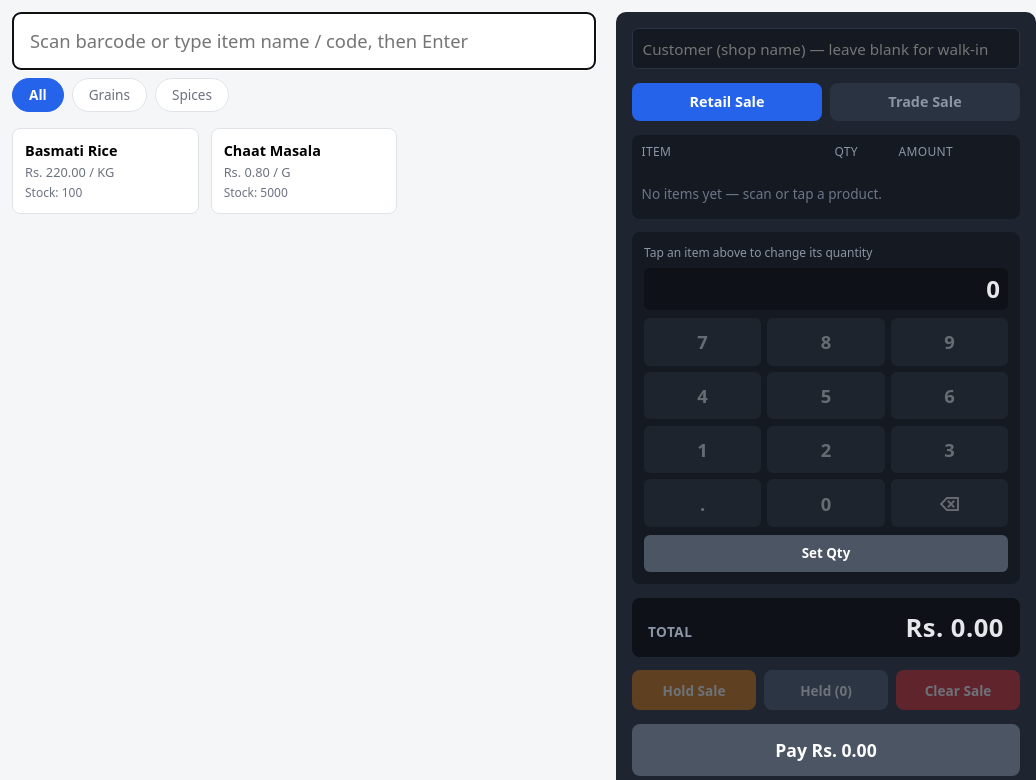
Test: POS — product grid and cart › adds a product to the cart on tap and shows retail price by default
Click the text "Basmati Rice": click(71, 150) [25,141,118,160]
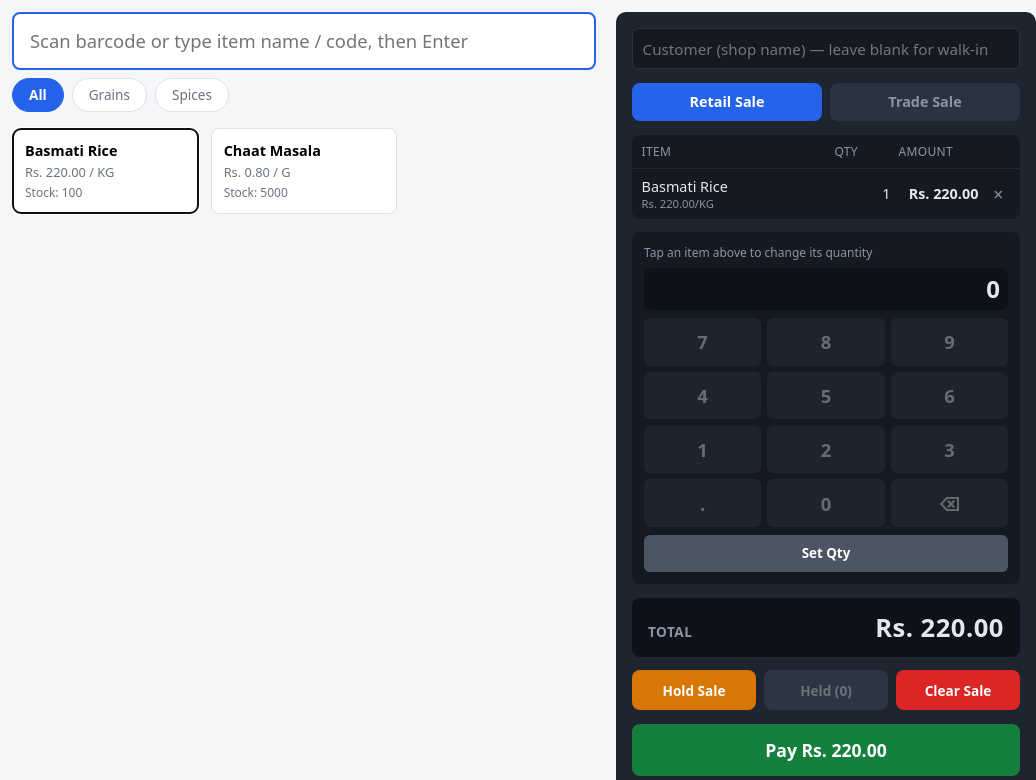
Check: the text "Rs. 220.00/KG" is shown, box [642,196,714,211]
Check: the text "TOTAL" shows "Rs. 220.00", box [875,610,1004,645]
